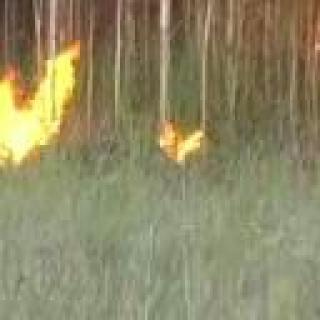fire: (0, 50, 85, 170), (156, 125, 215, 157)
